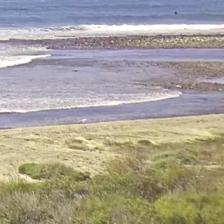surfer: (174, 11, 178, 15)
